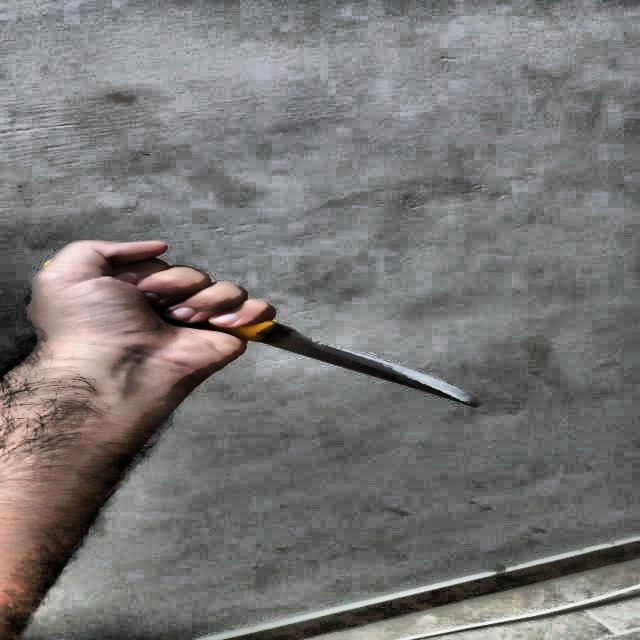knife: (228, 323, 478, 406)
